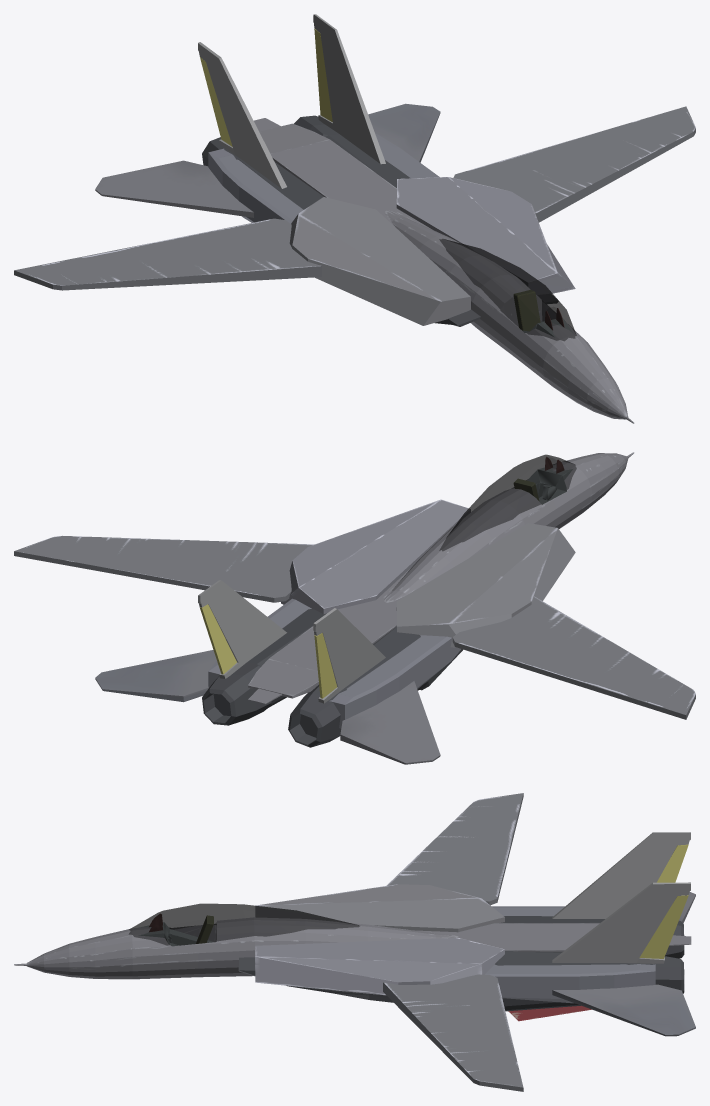
3 renders of one model, top to bottom at view 1: azimuth 30°, elevation 25°; view 2: azimuth 150°, elevation 25°; view 3: azimuth 270°, elevation 25°, orthographic. The views are drawn at different scales.
Visible parts, largest first — view 1: cockpit_frame, right_wing_cover, right_wing, left_wing, left_wing_covers, cabin_glass, right_elevator, elevator_frame, left_rudder_frame, right_rudder_frame, engines, left_elevator (+4 smaller); view 2: cockpit_frame, right_wing, right_wing_cover, left_wing, left_wing_covers, engines, elevator_frame, cabin_glass, right_elevator, left_elevator, left_rudder_frame, right_rudder_frame (+4 smaller); view 3: cockpit_frame, left_wing_covers, left_wing, right_wing, right_wing_cover, cabin_glass, elevator_frame, left_rudder_frame, engines, right_rudder_frame, left_elevator, cabin_glass_inside (+3 smaller).
Boxes of the visible parts, left/top/right/bottom form: cockpit_frame: left=254, top=118, right=634, bottom=423; right_wing_cover: left=289, top=197, right=470, bottom=325; right_wing: left=14, top=218, right=321, bottom=290; left_wing: left=453, top=106, right=695, bottom=222; left_wing_covers: left=396, top=177, right=575, bottom=294; cabin_glass: left=439, top=239, right=576, bottom=340; right_elevator: left=95, top=160, right=253, bottom=217; elevator_frame: left=208, top=133, right=439, bottom=223; left_rudder_frame: left=313, top=14, right=385, bottom=164; right_rudder_frame: left=198, top=42, right=286, bottom=188; engines: left=202, top=115, right=558, bottom=326; left_elevator: left=368, top=103, right=440, bottom=162; cockpit_frame: left=248, top=452, right=634, bottom=704; right_wing: left=452, top=596, right=695, bottom=719; right_wing_cover: left=396, top=523, right=575, bottom=647; left_wing: left=14, top=535, right=314, bottom=602; left_wing_covers: left=281, top=499, right=470, bottom=614; engines: left=202, top=609, right=462, bottom=747; elevator_frame: left=208, top=598, right=460, bottom=728; cabin_glass: left=439, top=455, right=576, bottom=550; right_elevator: left=340, top=681, right=440, bottom=764; left_elevator: left=95, top=650, right=216, bottom=702; left_rudder_frame: left=198, top=580, right=286, bottom=678; right_rudder_frame: left=313, top=608, right=385, bottom=703; cockpit_frame: left=14, top=917, right=691, bottom=979; left_wing_covers: left=255, top=937, right=504, bottom=995; left_wing: left=383, top=974, right=523, bottom=1091; right_wing: left=386, top=793, right=523, bottom=905; right_wing_cover: left=255, top=884, right=504, bottom=932; cabin_glass: left=129, top=904, right=359, bottom=945; elevator_frame: left=485, top=906, right=655, bottom=1003; left_rudder_frame: left=552, top=882, right=690, bottom=963; engines: left=238, top=916, right=684, bottom=1021; right_rudder_frame: left=552, top=832, right=690, bottom=918; left_elevator: left=552, top=984, right=695, bottom=1036; cabin_glass_inside: left=133, top=904, right=351, bottom=929.
Bounding box in the file's own units: 1.02 × 0.2279 × 0.996.
19 materials, 19 textured.
